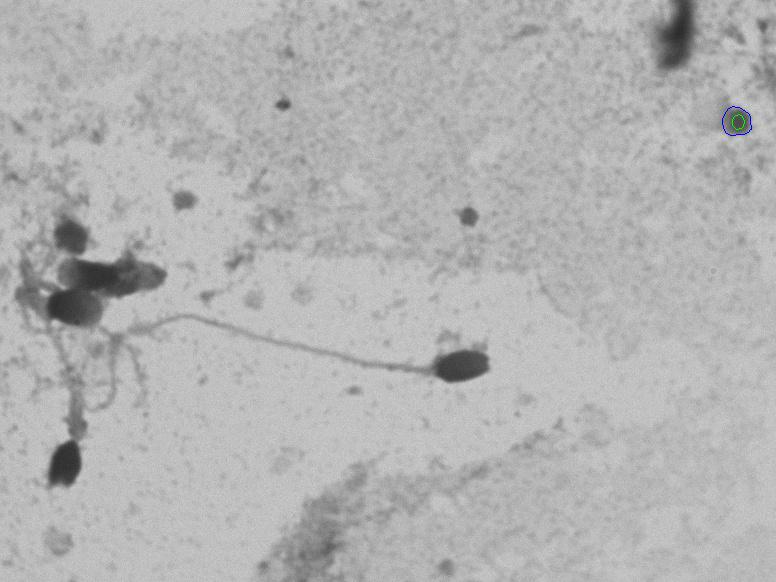Abnormal: (91, 305, 497, 437)
